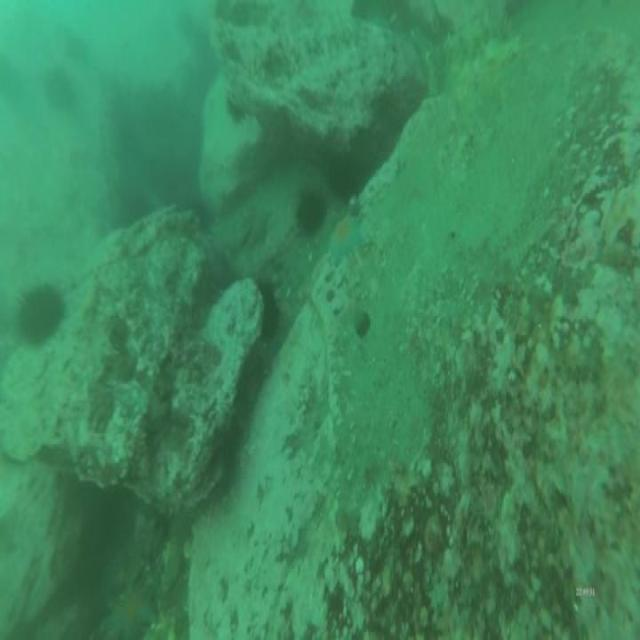echinus: (17, 283, 67, 346), (252, 278, 282, 348), (41, 62, 76, 117), (293, 188, 329, 239), (324, 150, 358, 204)
holothurian: (455, 28, 525, 87), (442, 9, 498, 66)
starfish: (324, 212, 367, 267), (115, 583, 156, 640)
